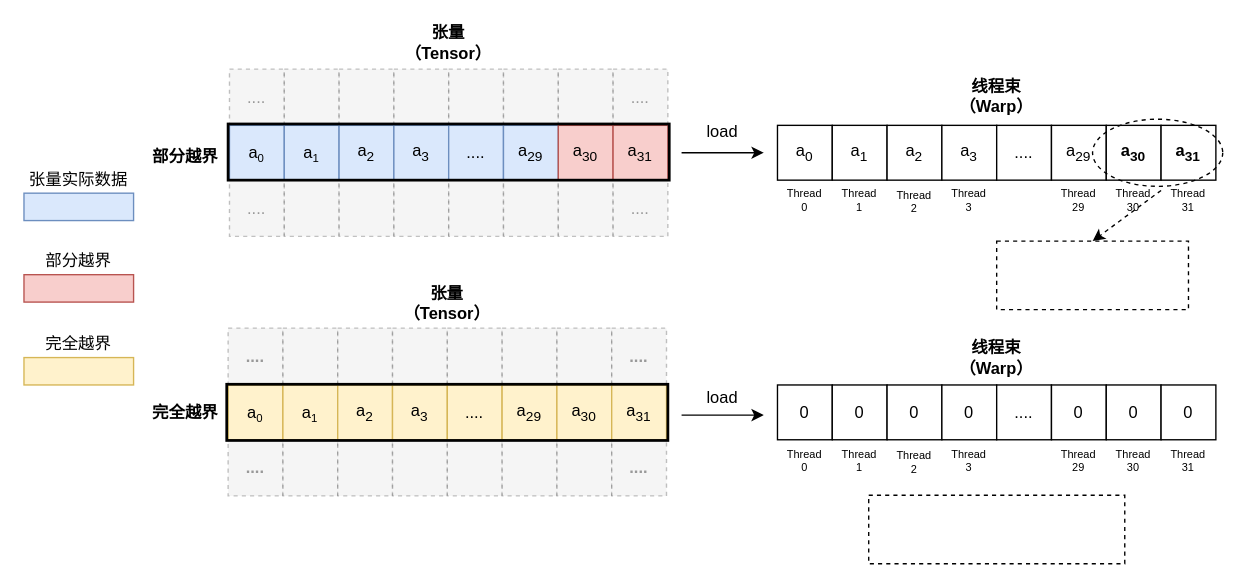
Image size: 1247x588. Some labels were removed from this diagram. The shapes that lost their labels are listed below. From the top down, each one's centre as x and y in pixels, then its label:
the point at 1091,275: 在加载“部分越界”的张量数据时，显存中数据会被直接读回寄存器。
the point at 996,529: 在加载“完全越界”的张量数据时，显存中数据不会被加载，硬件会为所有线程的寄存器返回 0。
